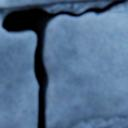brick: (0, 0, 116, 9)
broken_brick: (44, 13, 127, 127), (0, 29, 37, 127)
crack: (1, 0, 126, 127)
